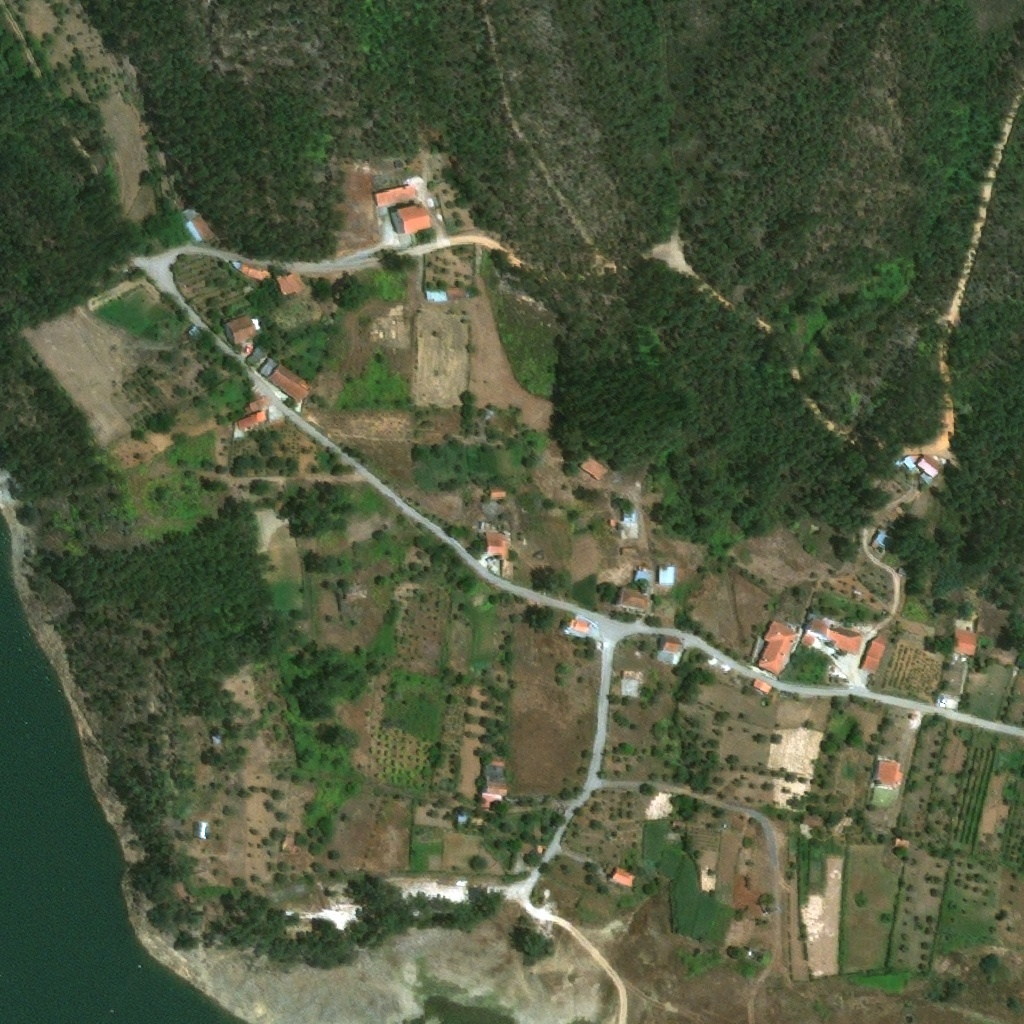0 no-damage: (757, 620, 801, 676), (259, 358, 313, 403), (809, 618, 862, 656), (481, 756, 508, 807), (183, 206, 217, 245), (233, 401, 267, 439), (391, 205, 431, 237), (859, 633, 889, 675), (223, 316, 263, 346), (579, 451, 614, 483), (376, 184, 416, 208), (874, 759, 904, 790), (615, 588, 649, 613), (916, 455, 943, 485), (276, 272, 308, 297), (620, 507, 643, 541), (951, 629, 978, 657), (656, 638, 682, 667), (427, 287, 466, 303), (487, 533, 509, 560), (869, 529, 894, 551), (612, 867, 637, 887), (241, 267, 271, 283), (246, 347, 267, 368), (345, 586, 369, 604), (633, 567, 653, 586), (622, 673, 637, 698), (752, 678, 773, 695), (743, 948, 765, 964), (520, 843, 543, 858), (281, 832, 297, 853), (658, 565, 675, 584), (186, 325, 203, 341), (501, 560, 513, 582), (195, 822, 208, 840), (489, 486, 506, 499), (805, 818, 824, 829), (572, 621, 588, 633), (801, 634, 814, 647), (212, 735, 223, 746), (458, 813, 470, 823), (899, 567, 909, 575)
